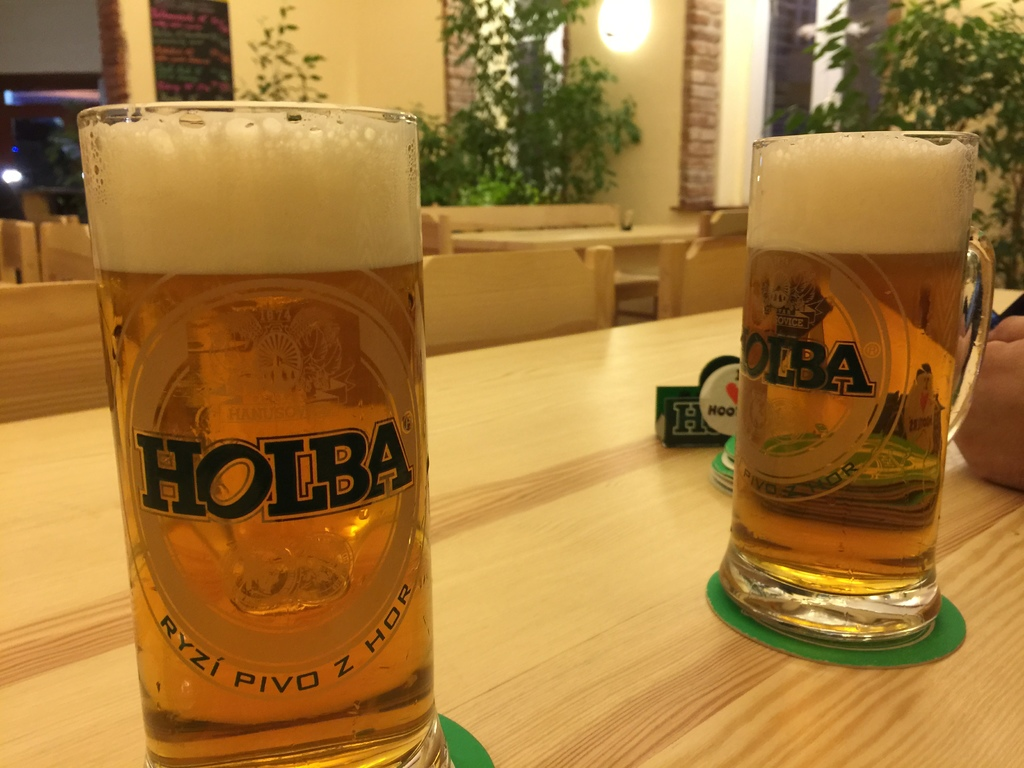Beer: (76, 112, 445, 767), (730, 135, 972, 600)
